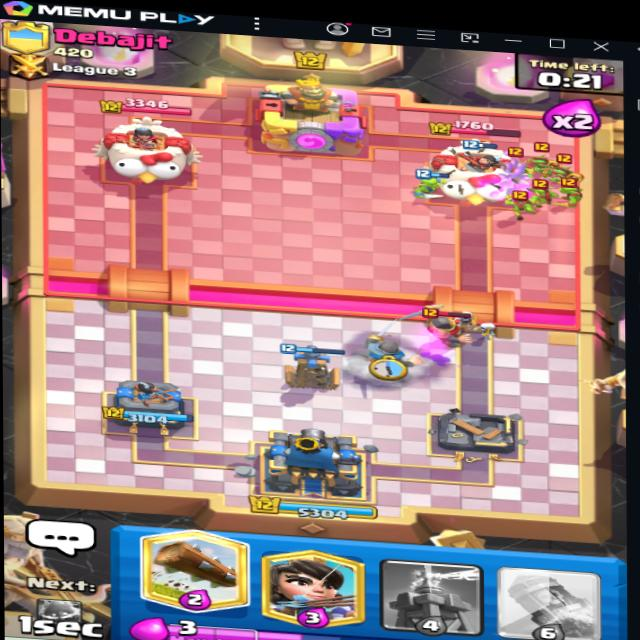goblin: (526, 178, 570, 214), (504, 183, 535, 217), (556, 180, 583, 211)
knight: (421, 300, 473, 349)
spear-goblin: (554, 154, 584, 188), (523, 151, 556, 178)
